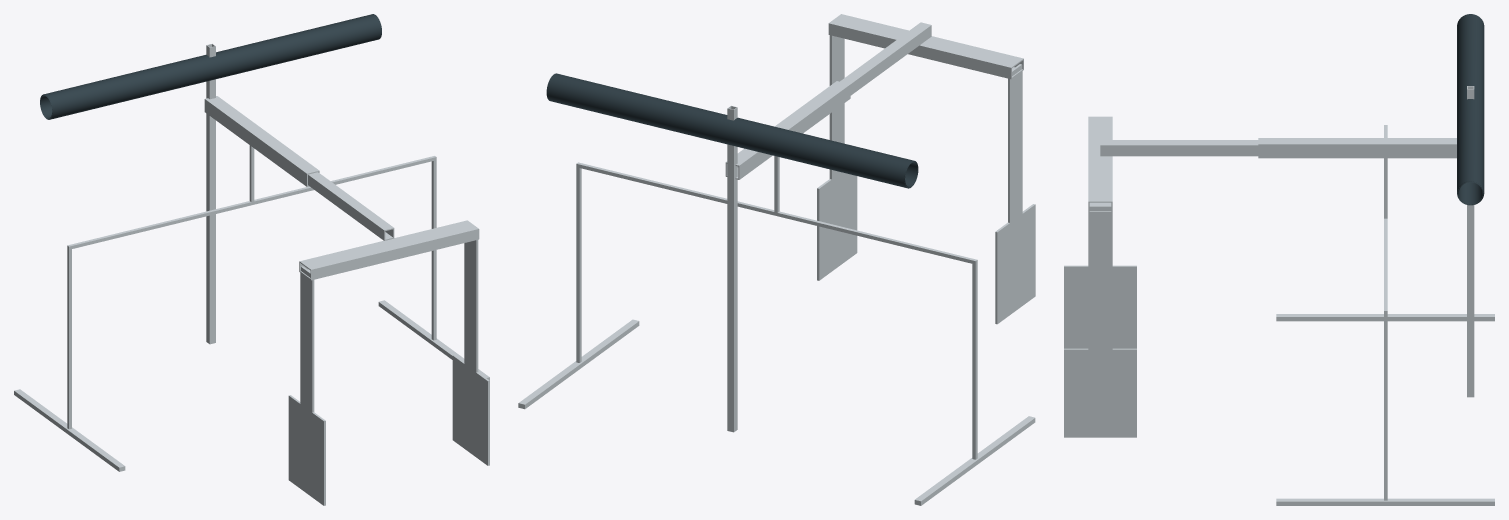
Rendered from small-carton-clamp-tool.glb.
3 views of the same model, side by side, from view 1: azimuth 30°, elevation 25°; view 2: azimuth 150°, elevation 25°; view 3: azimuth 270°, elevation 25° (orthographic). The views are drawn at different scales.
Visible parts, largest first — view 1: native_32_facet_hollow_grip_bar, clamp_jaw_L, clamp_jaw_R, bridge_top, clamp_upright_L, clamp_upright_R, stow_low_crossbar, bridge_front, height_rail_z_1, outer_telescopic_beam_top, height_rail_x_-1, outer_telescopic_beam_left (+6 smaller); view 2: native_32_facet_hollow_grip_bar, clamp_jaw_L, clamp_jaw_R, stow_low_crossbar, bridge_top, clamp_upright_L, height_rail_z_-1, bridge_back, height_rail_x_-1, clamp_upright_R, stow_runner_R, stow_runner_L (+6 smaller); view 3: clamp_jaw_R, native_32_facet_hollow_grip_bar, clamp_jaw_L, clamp_upright_R, outer_telescopic_beam_right, bridge_top, stow_runner_R, stow_runner_L, height_rail_x_1, outer_telescopic_beam_top, inner_telescopic_beam_right, inner_telescopic_beam_top (+1 smaller).
Boxes of the visible parts, left/top/right/bottom form: native_32_facet_hollow_grip_bar: left=40, top=14, right=381, bottom=119; clamp_jaw_L: left=288, top=395, right=325, bottom=505; clamp_jaw_R: left=452, top=355, right=489, bottom=465; bridge_top: left=299, top=220, right=479, bottom=270; clamp_upright_L: left=300, top=266, right=314, bottom=412; clamp_upright_R: left=464, top=235, right=478, bottom=372; stow_low_crossbar: left=67, top=156, right=436, bottom=249; bridge_front: left=310, top=230, right=479, bottom=279; height_rail_z_1: left=210, top=46, right=215, bottom=344; outer_telescopic_beam_top: left=204, top=96, right=319, bottom=174; height_rail_x_-1: left=206, top=45, right=210, bottom=344; outer_telescopic_beam_left: left=204, top=100, right=307, bottom=185; native_32_facet_hollow_grip_bar: left=546, top=73, right=918, bottom=188; clamp_jaw_L: left=995, top=204, right=1035, bottom=324; clamp_jaw_R: left=817, top=172, right=857, bottom=280; stow_low_crossbar: left=576, top=162, right=977, bottom=264; bridge_top: left=828, top=14, right=1023, bottom=68; clamp_upright_L: left=1008, top=64, right=1022, bottom=222; height_rail_z_-1: left=728, top=108, right=733, bottom=431; bridge_back: left=828, top=24, right=1011, bottom=77; height_rail_x_-1: left=733, top=107, right=737, bottom=432; clamp_upright_R: left=829, top=29, right=844, bottom=179; stow_runner_R: left=518, top=319, right=639, bottom=409; stow_runner_L: left=914, top=416, right=1035, bottom=505; clamp_jaw_R: left=1064, top=348, right=1136, bottom=437; native_32_facet_hollow_grip_bar: left=1457, top=14, right=1484, bottom=205; clamp_jaw_L: left=1064, top=265, right=1136, bottom=348; clamp_upright_R: left=1088, top=205, right=1112, bottom=349; outer_telescopic_beam_right: left=1258, top=145, right=1456, bottom=156; bridge_top: left=1088, top=116, right=1112, bottom=202; stow_runner_R: left=1276, top=498, right=1494, bottom=505; stow_runner_L: left=1276, top=314, right=1494, bottom=321; height_rail_x_1: left=1467, top=89, right=1474, bottom=397; outer_telescopic_beam_top: left=1258, top=138, right=1456, bottom=145; inner_telescopic_beam_right: left=1100, top=146, right=1258, bottom=154; inner_telescopic_beam_top: left=1100, top=140, right=1258, bottom=146.
Size of the model in its own units: 0.732 by 0.59 by 0.71.
